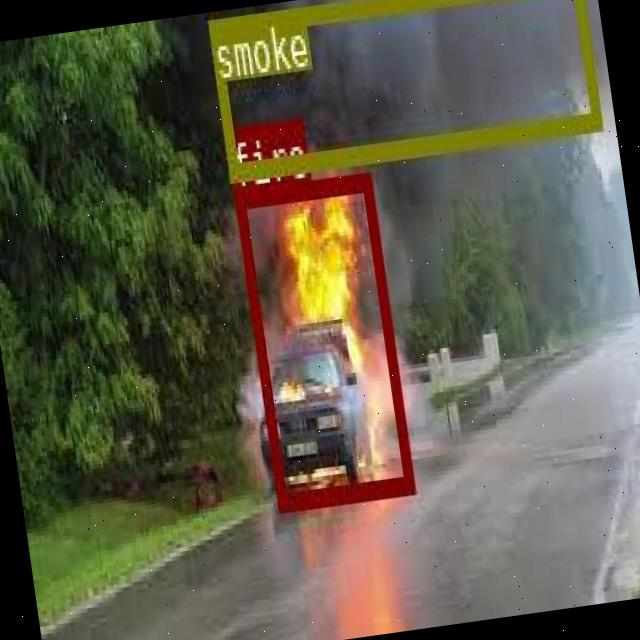fire: (233, 170, 414, 510)
smoke: (207, 0, 600, 179)
